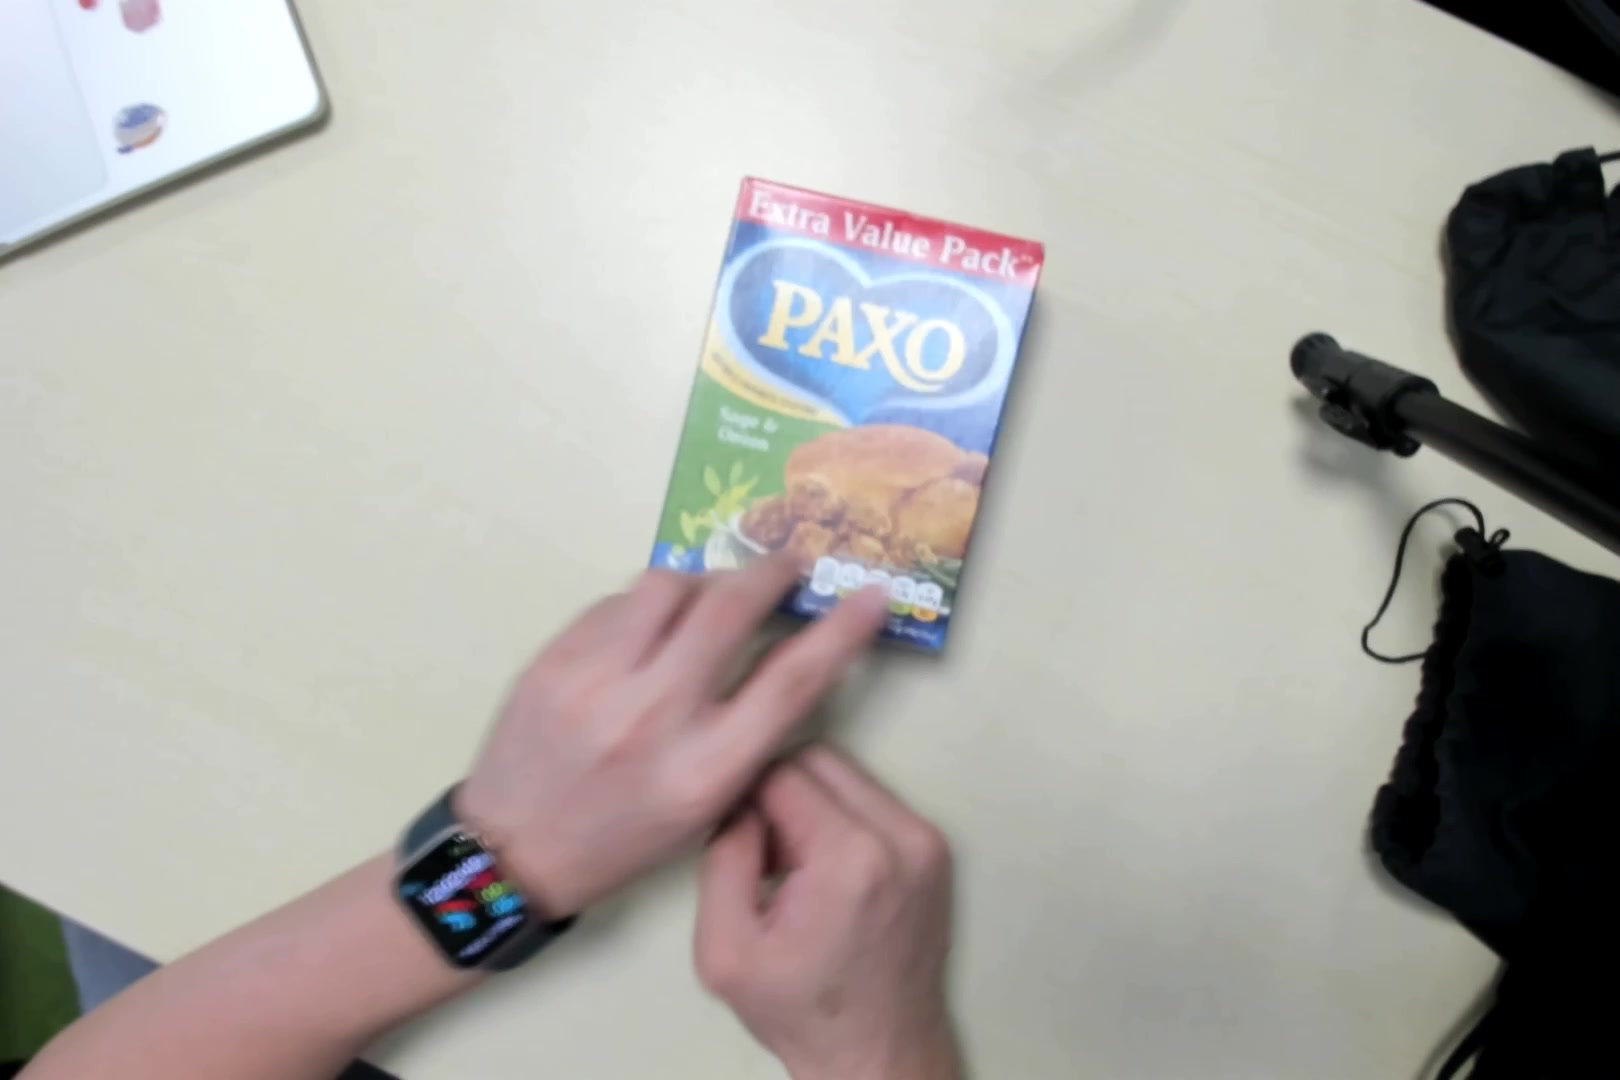OtherBakingNeeds_300-399g_NonHalal_NonHealthy: (645, 174, 1047, 665)
